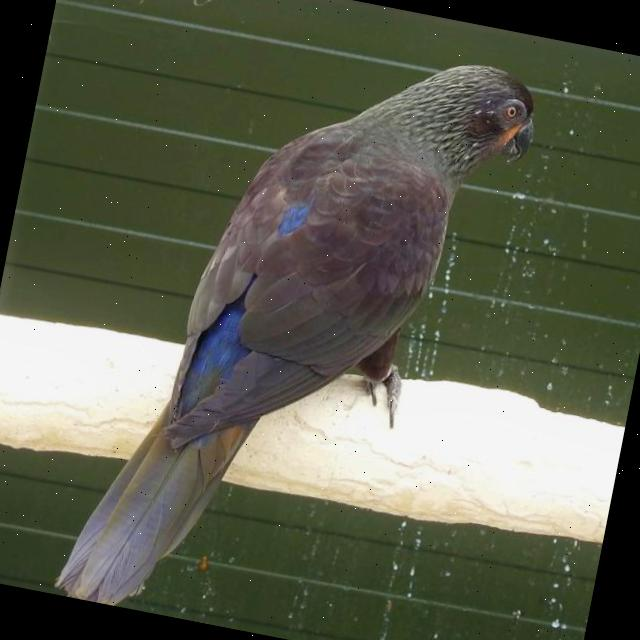Nuri Hitam: (20, 0, 557, 640)
